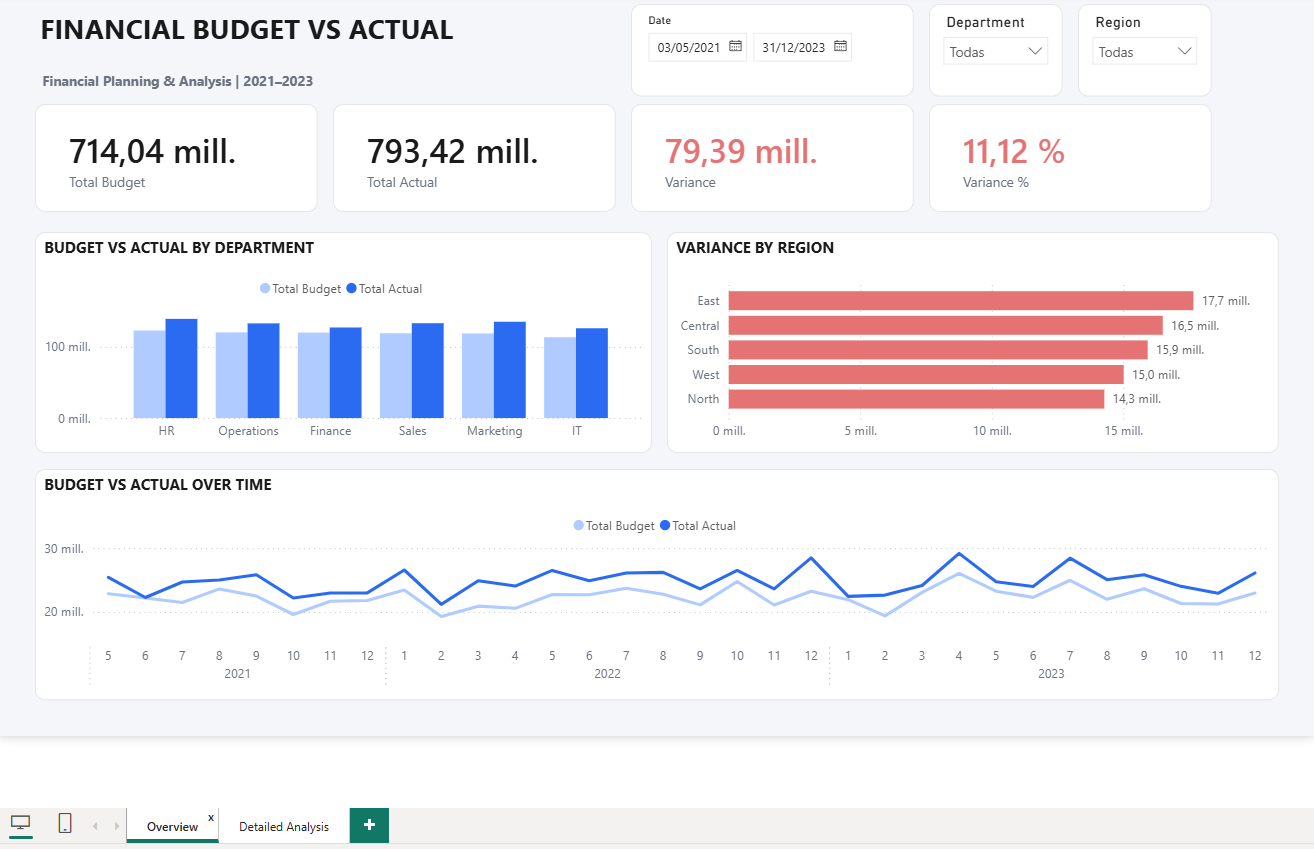

The dashboard page shown, as its layout file describes it:
{"tool":"powerbi","page":{"name":"Overview","canvas":[1280,720],"ordinal":0},"visuals":[{"type":"textbox","box":[35,7.8,565.1,57.4],"z":0},{"type":"textbox","box":[37,68.1,563.2,30.2],"z":1000},{"type":"cardVisual","fields":{"Data":["_Medidas.Total Budget"]},"box":[35,105,275.3,105],"z":2000},{"type":"cardVisual","fields":{"Data":["_Medidas.Total Actual"]},"box":[325,105,275,105],"z":3000},{"type":"cardVisual","fields":{"Data":["_Medidas.Variance"]},"box":[615,105,275,105],"z":4000},{"type":"cardVisual","fields":{"Data":["_Medidas.Variance %"]},"box":[905,105,275,105],"z":5000},{"type":"slicer","fields":{"Values":["dim_date.date_id"]},"box":[614.7,7.8,275.3,90.5],"z":6000},{"type":"slicer","fields":{"Values":["dim_department.department"]},"box":[904.6,7.8,130,90.5],"z":7000},{"type":"slicer","fields":{"Values":["dim_region.region"]},"box":[1049.5,7.8,130.3,90.5],"z":8000},{"type":"clusteredColumnChart","title":"BUDGET VS ACTUAL BY DEPARTMENT","fields":{"Category":["dim_department.department"],"Y":["_Medidas.Total Budget","_Medidas.Total Actual"]},"box":[35,230,600,215],"z":9000},{"type":"clusteredBarChart","title":"VARIANCE BY REGION","fields":{"Category":["dim_region.region"],"Y":["_Medidas.Variance"]},"box":[650,230,595,215],"z":10000},{"type":"lineChart","title":"BUDGET VS ACTUAL OVER TIME","fields":{"Y":["_Medidas.Total Budget","_Medidas.Total Actual"],"Category":["dim_date.year","dim_date.month"]},"box":[35,460,1210,225],"z":11000}]}

Visuals, with their boxes on the page's 1280x720 design canvas (x1, y1, x2, y2). These are canvas units, not pixel positions in the 1314x849 screenshot, which may show the page scaled, cropped or inside an application window:
textbox: l=35, t=8, r=600, b=65
textbox: l=37, t=68, r=600, b=98
cardVisual - _Medidas.Total Budget: l=35, t=105, r=310, b=210
cardVisual - _Medidas.Total Actual: l=325, t=105, r=600, b=210
cardVisual - _Medidas.Variance: l=615, t=105, r=890, b=210
cardVisual - _Medidas.Variance %: l=905, t=105, r=1180, b=210
slicer - dim_date.date_id: l=615, t=8, r=890, b=98
slicer - dim_department.department: l=905, t=8, r=1035, b=98
slicer - dim_region.region: l=1050, t=8, r=1180, b=98
"BUDGET VS ACTUAL BY DEPARTMENT" clusteredColumnChart: l=35, t=230, r=635, b=445
"VARIANCE BY REGION" clusteredBarChart: l=650, t=230, r=1245, b=445
"BUDGET VS ACTUAL OVER TIME" lineChart: l=35, t=460, r=1245, b=685
